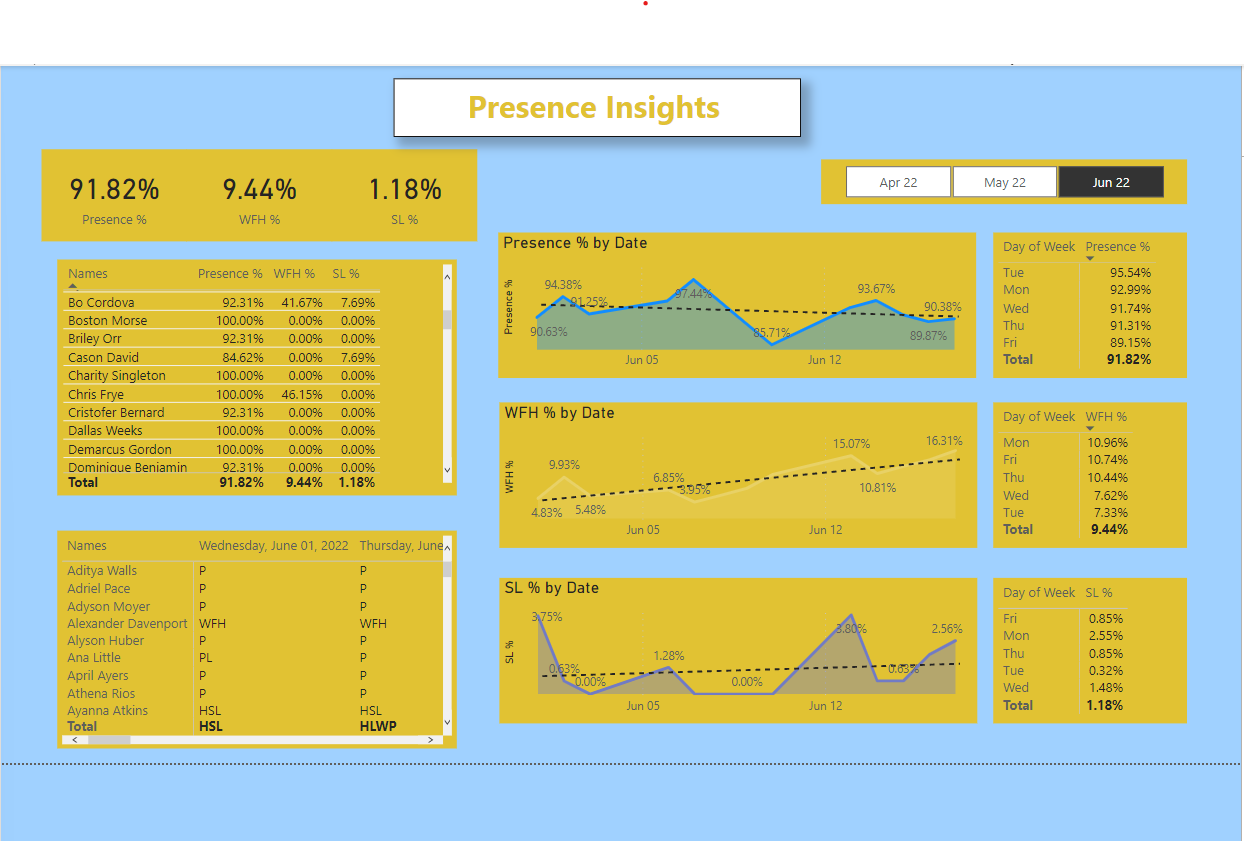

Layout of this report page (visuals, bound fields, positions):
{"tool":"powerbi","page":{"name":"Presence Overview","canvas":[1280,720],"ordinal":0},"visuals":[{"type":"card","fields":{"Values":["Measure Table.Presence %"]},"box":[41.8,85.9,150,95.2],"z":0},{"type":"slicer","fields":{"Values":["Final Data.Month"]},"box":[846.6,96.4,377.4,46.5],"z":1000},{"type":"card","fields":{"Values":["Measure Table.WFH %"]},"box":[191.6,85.9,150,95.2],"z":2000},{"type":"card","fields":{"Values":["Measure Table.SL %"]},"box":[341.4,85.9,150,95.2],"z":3000},{"type":"tableEx","fields":{"Values":["Final Data.Names","Measure Table.Presence %","Measure Table.WFH %","Measure Table.SL %"]},"box":[58.1,199.7,412.3,243.9],"z":4000},{"type":"textbox","box":[405.3,12.8,420.4,60.4],"z":6000},{"type":"pivotTable","fields":{"Rows":["Final Data.Names"],"Values":["Min(Final Data.Value)"],"Columns":["Final Data.Date"]},"box":[58.1,479.6,412.3,225.3],"z":7000},{"type":"areaChart","fields":{"Category":["Final Data.Date"],"Y":["Measure Table.Presence %"]},"box":[513.3,171.9,493.5,150],"z":8000},{"type":"areaChart","fields":{"Category":["Final Data.Date"],"Y":["Measure Table.WFH %"]},"box":[514.5,347.2,493.5,150],"z":9000},{"type":"areaChart","fields":{"Category":["Final Data.Date"],"Y":["Measure Table.SL %"]},"box":[514.5,528.4,493.5,150],"z":10000},{"type":"pivotTable","fields":{"Rows":["Final Data.Day of Week"],"Values":["Measure Table.Presence %"]},"box":[1024.3,171.9,200,150],"z":11000},{"type":"pivotTable","fields":{"Rows":["Final Data.Day of Week"],"Values":["Measure Table.WFH %"]},"box":[1024.3,347.2,200,150],"z":11001},{"type":"pivotTable","fields":{"Rows":["Final Data.Day of Week"],"Values":["Measure Table.SL %"]},"box":[1024.3,528.4,200,150],"z":11002}]}

Visuals, with their boxes on the page's 1280x720 design canvas (x1, y1, x2, y2). These are canvas units, not pixel positions in the 1244x841 screenshot, which may show the page scaled, cropped or inside an application window:
card - Measure Table.Presence %: {"left": 42, "top": 86, "right": 192, "bottom": 181}
slicer - Final Data.Month: {"left": 847, "top": 96, "right": 1224, "bottom": 143}
card - Measure Table.WFH %: {"left": 192, "top": 86, "right": 342, "bottom": 181}
card - Measure Table.SL %: {"left": 341, "top": 86, "right": 491, "bottom": 181}
tableEx - Final Data.Names x Measure Table.Presence %: {"left": 58, "top": 200, "right": 470, "bottom": 444}
textbox: {"left": 405, "top": 13, "right": 826, "bottom": 73}
pivotTable - Final Data.Names x Min(Final Data.Value): {"left": 58, "top": 480, "right": 470, "bottom": 705}
areaChart - Final Data.Date x Measure Table.Presence %: {"left": 513, "top": 172, "right": 1007, "bottom": 322}
areaChart - Final Data.Date x Measure Table.WFH %: {"left": 514, "top": 347, "right": 1008, "bottom": 497}
areaChart - Final Data.Date x Measure Table.SL %: {"left": 514, "top": 528, "right": 1008, "bottom": 678}
pivotTable - Final Data.Day of Week x Measure Table.Presence %: {"left": 1024, "top": 172, "right": 1224, "bottom": 322}
pivotTable - Final Data.Day of Week x Measure Table.WFH %: {"left": 1024, "top": 347, "right": 1224, "bottom": 497}
pivotTable - Final Data.Day of Week x Measure Table.SL %: {"left": 1024, "top": 528, "right": 1224, "bottom": 678}
